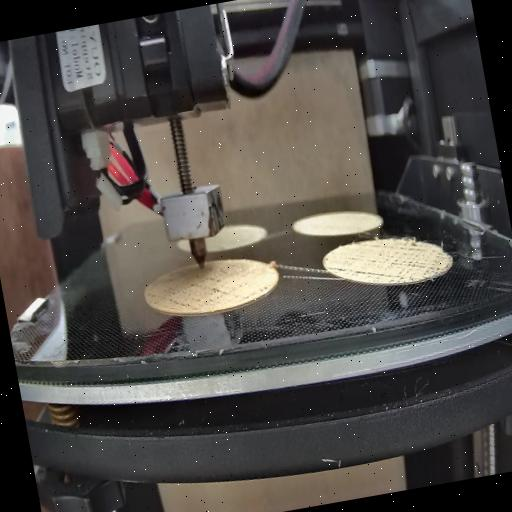under_extrusion: (146, 265, 272, 318), (349, 235, 449, 290), (324, 258, 350, 280)
